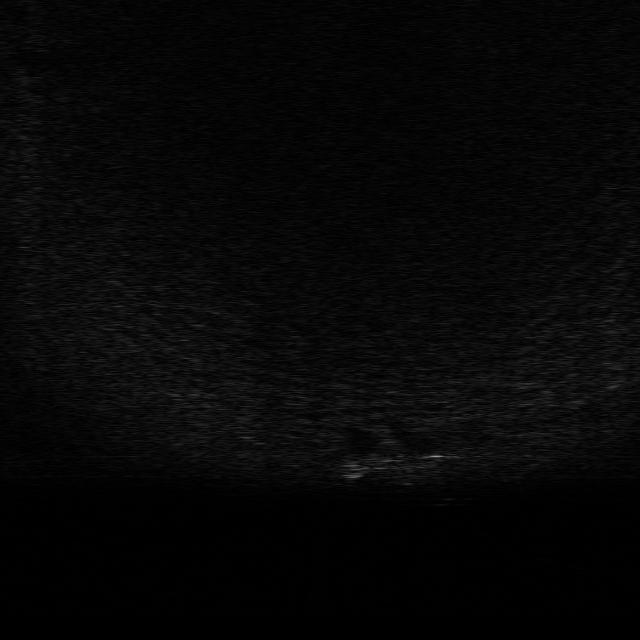plane: (335, 428, 461, 488)
